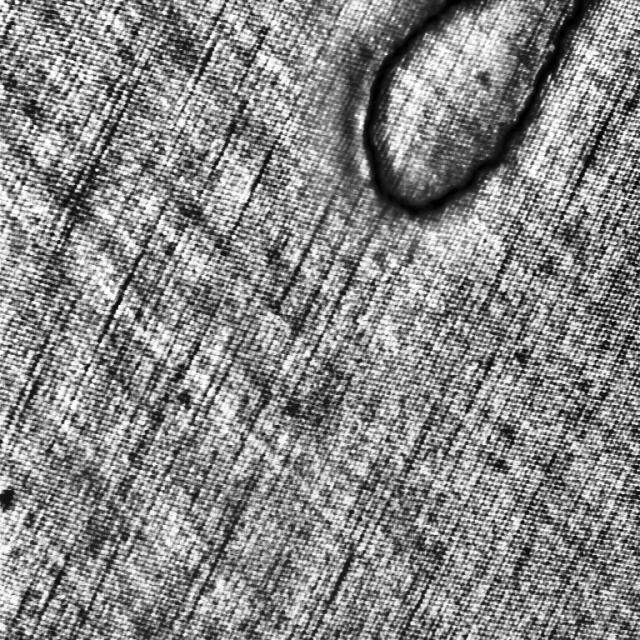Stitch: (355, 0, 588, 224)
